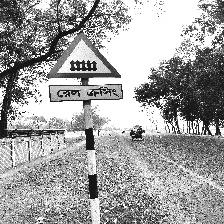Rail-crossing: (46, 33, 123, 103)
